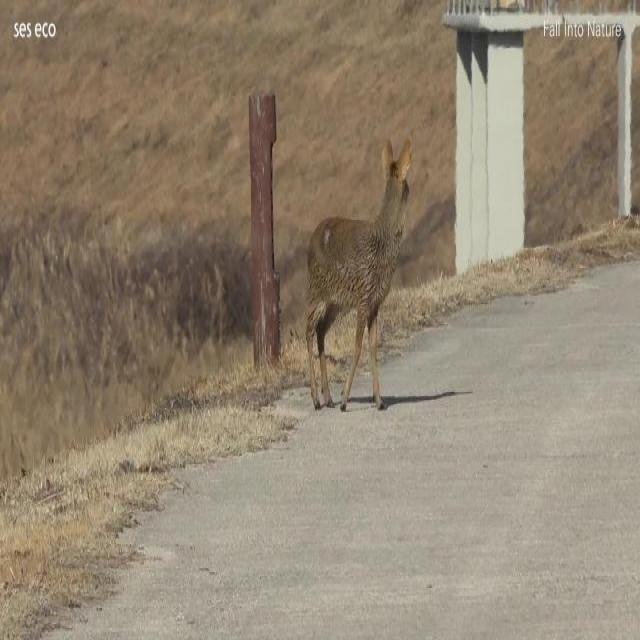deer: (304, 136, 414, 411)
